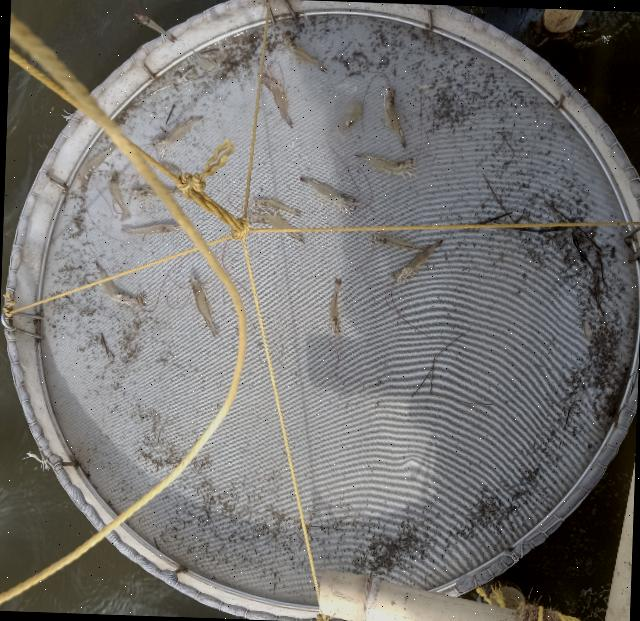shrimp: (389, 238, 443, 281), (299, 176, 360, 208), (258, 71, 293, 126), (189, 274, 219, 335), (148, 115, 204, 147), (95, 262, 139, 302), (281, 32, 326, 71), (246, 213, 304, 243), (80, 143, 114, 192), (383, 85, 406, 148), (355, 154, 417, 176), (366, 233, 430, 252), (110, 170, 131, 220), (251, 198, 301, 215), (328, 277, 341, 333), (125, 224, 184, 234), (129, 188, 185, 198)
